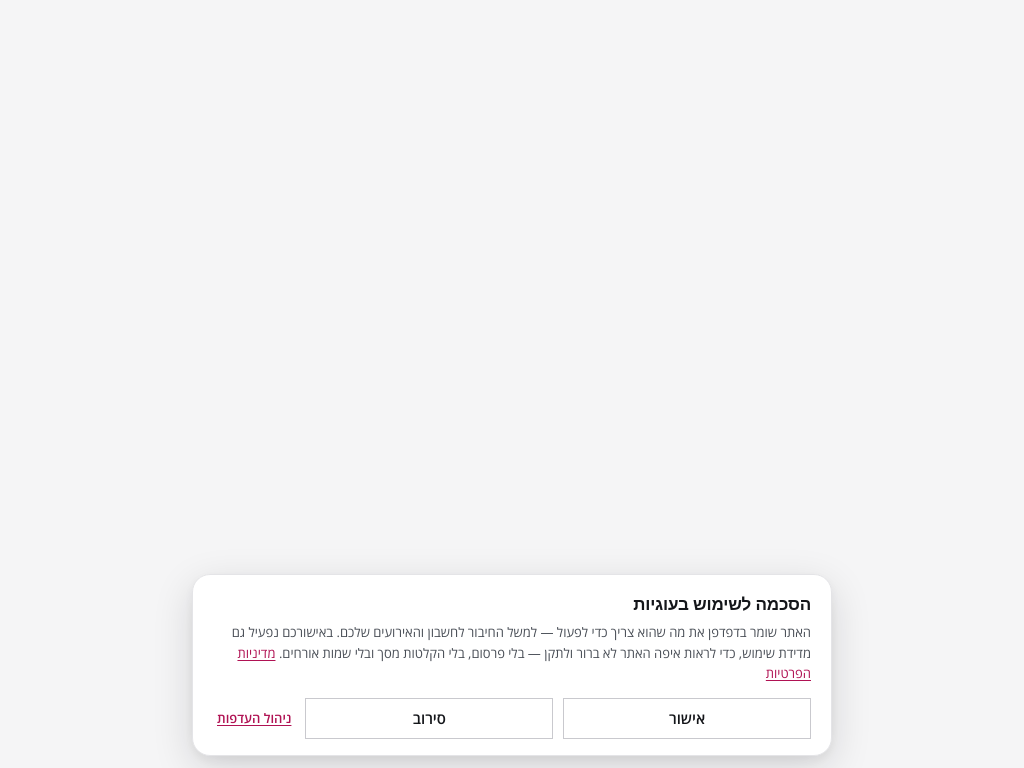
it: the preferences › measurement is NOT ticked in advance; essential is on and locked
The width and height of the screenshot is (1024, 768).
Click the button "ניהול העדפות".
click(254, 719)  # box [213, 703, 295, 734]
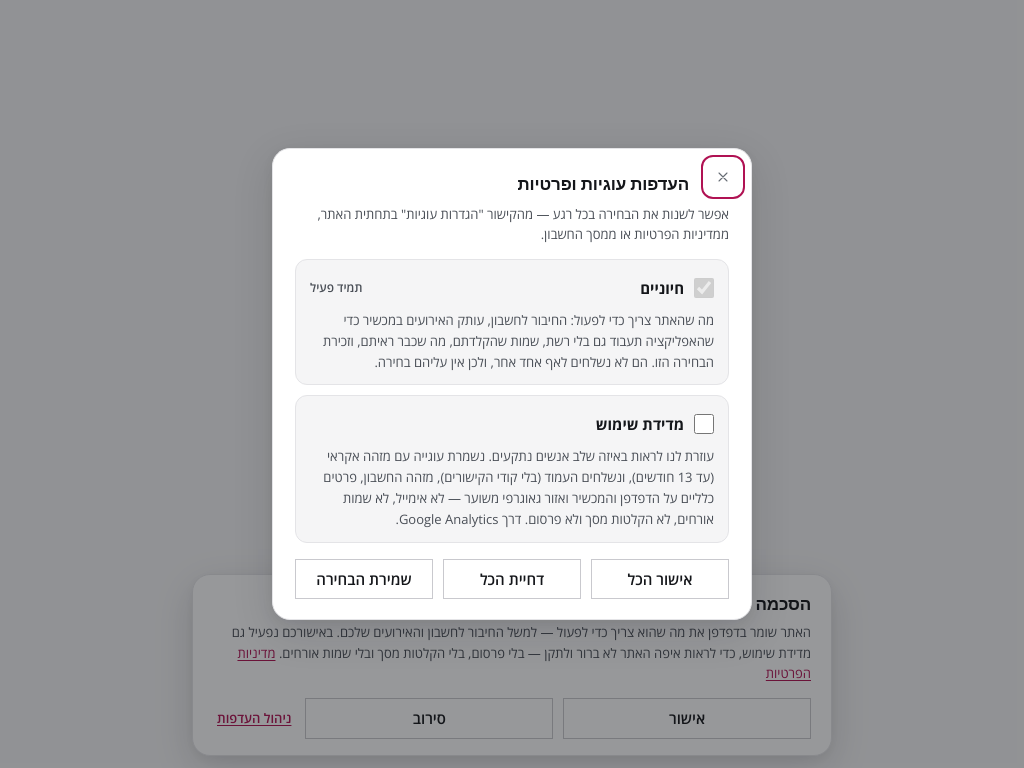
Now the checkbox labelled "מדידת שימוש" is not checked, box [694, 414, 714, 434]
Now the checkbox labelled "מדידת שימוש" is enabled, box [694, 414, 714, 434]
